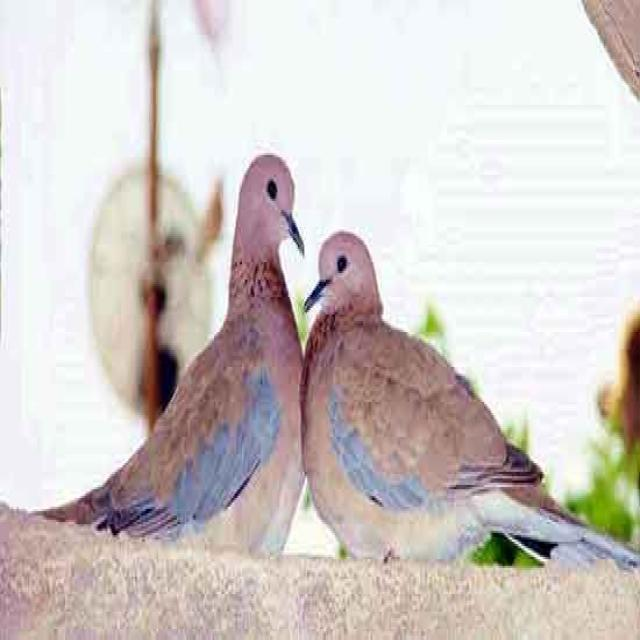dove: (303, 210, 635, 592), (38, 145, 308, 557)
